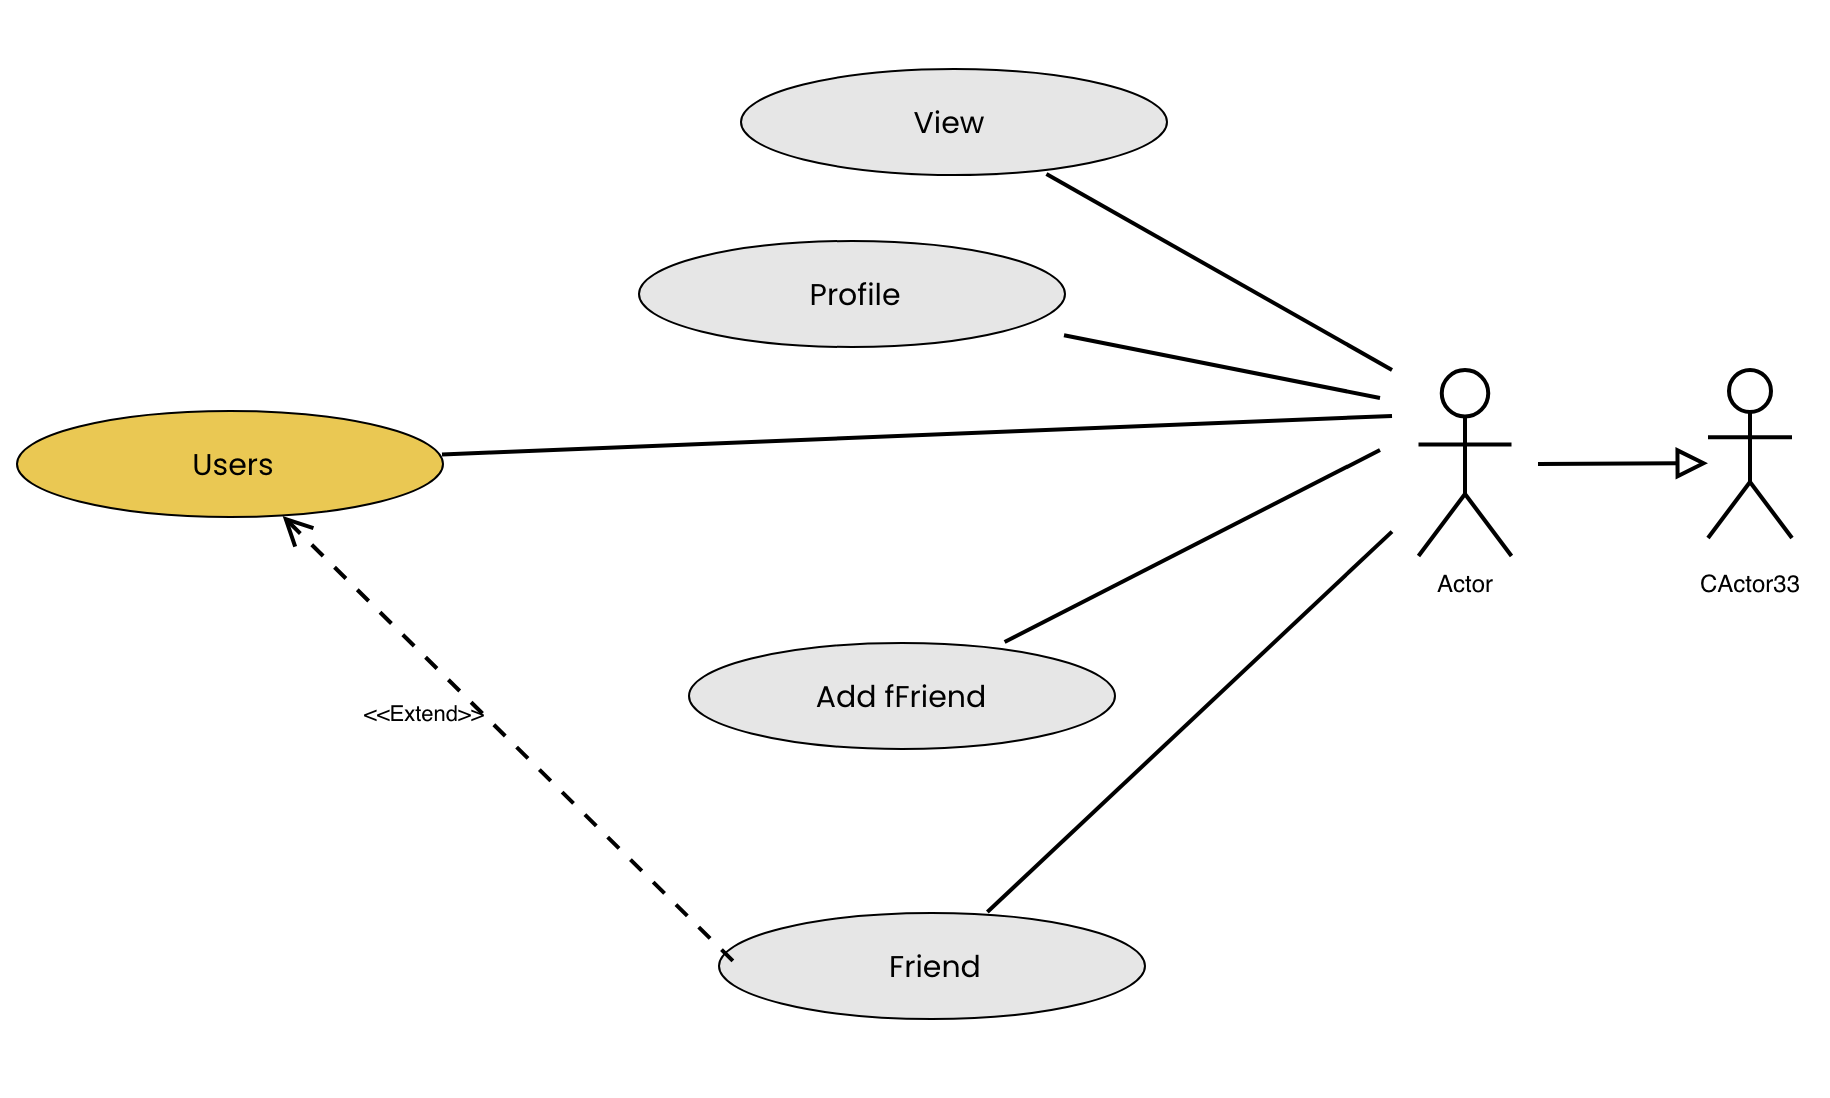actor: (1410, 362, 1523, 566), (1702, 362, 1805, 545)
association: (282, 514, 723, 953), (980, 524, 1399, 912), (1004, 444, 1391, 643), (1046, 173, 1399, 374), (446, 407, 1396, 467), (1059, 325, 1380, 400)
generalization: (1539, 442, 1705, 484)
text: (880, 933, 1010, 997), (1678, 559, 1806, 605), (803, 682, 990, 711), (805, 274, 915, 322), (905, 98, 1004, 145), (173, 444, 288, 484), (365, 697, 484, 731), (1421, 563, 1508, 607)
use_case: (684, 639, 1122, 756), (635, 237, 1068, 352), (737, 65, 1169, 180), (715, 908, 1148, 1022), (13, 407, 443, 519)
